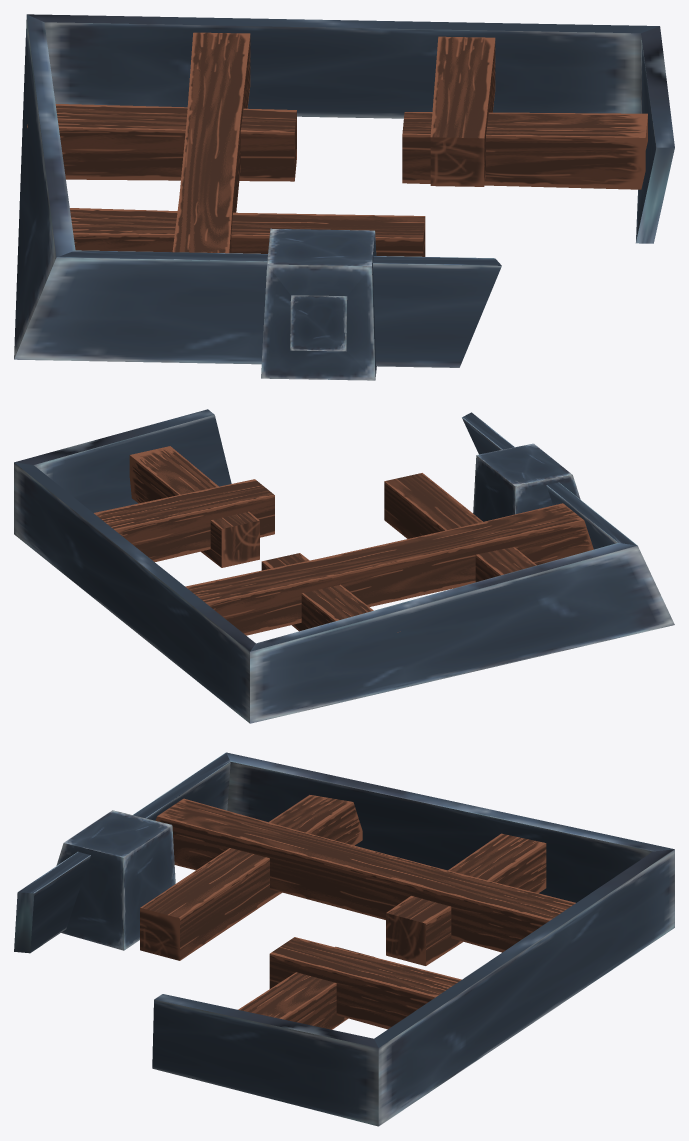
The model's file is Wood_cage_damaged_door.fbx.
3 views of the same model, one above another, from view 1: azimuth 30°, elevation 25°; view 2: azimuth 150°, elevation 25°; view 3: azimuth 270°, elevation 25° (orthographic). The views are drawn at different scales.
Parts seen in each view (by area): view 1: Wood_cage_damaged_door; view 2: Wood_cage_damaged_door; view 3: Wood_cage_damaged_door.
Boxes of the visible parts, x1,y1,x2,y2 form: Wood_cage_damaged_door: (14, 14, 674, 380); Wood_cage_damaged_door: (14, 409, 674, 723); Wood_cage_damaged_door: (14, 752, 674, 1126).
Bounding box in the file's own units: 1.5 × 0.2023 × 1.33.
